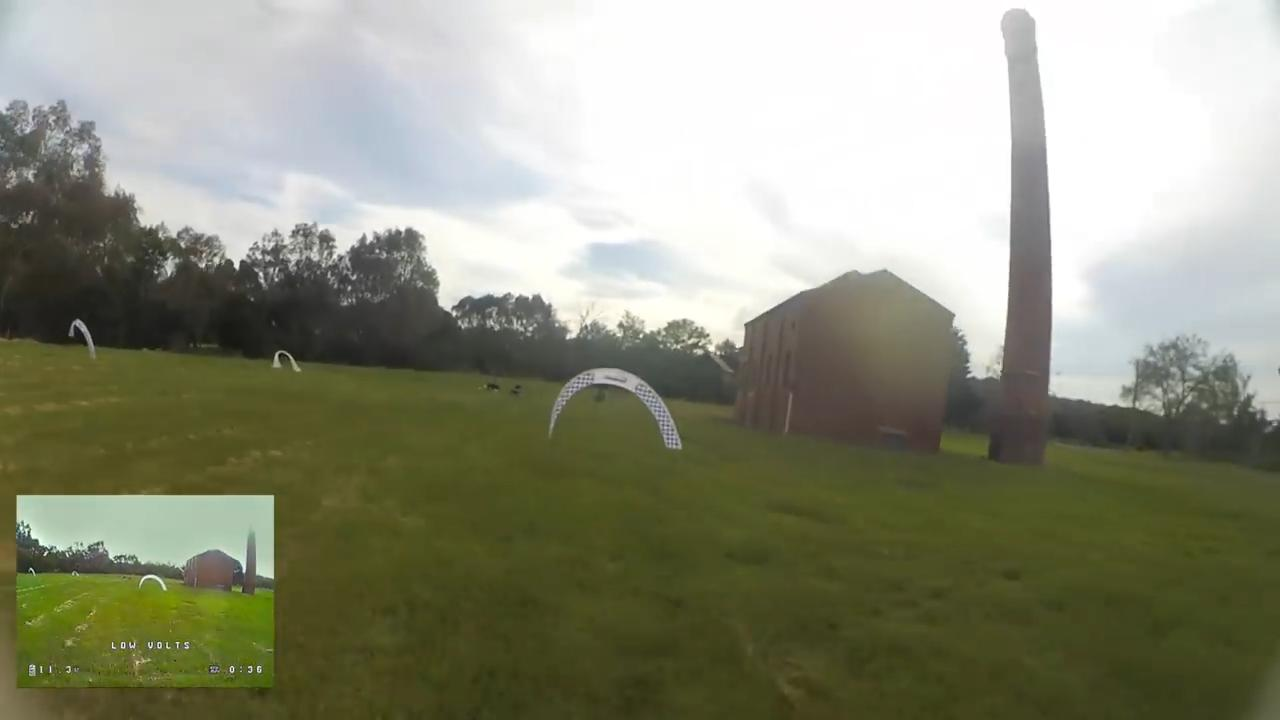gate: (547, 364, 685, 459), (273, 348, 299, 373)
